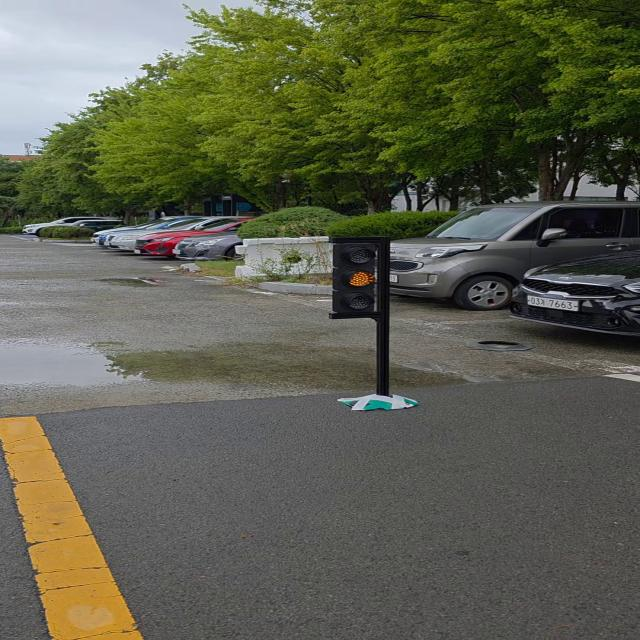yellow: (333, 239, 388, 318)
